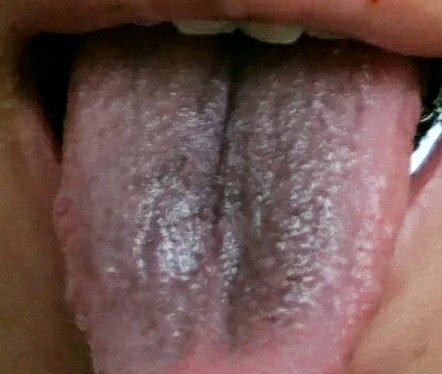heitaishe: (54, 39, 420, 374)
liewenshe: (209, 49, 242, 177)
